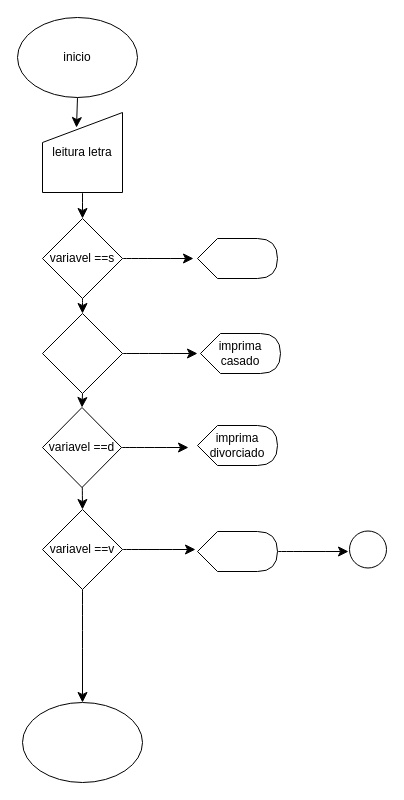
Some shapes in this 404 by 800 pixel diagram are drawn without their labels. Each missing label, with the box of its shape:
fim: (22, 702, 142, 782)
imprima solteiro: (196, 238, 278, 278)
imprima viuvo: (196, 530, 278, 572)
variavel ==c: (42, 312, 122, 394)
